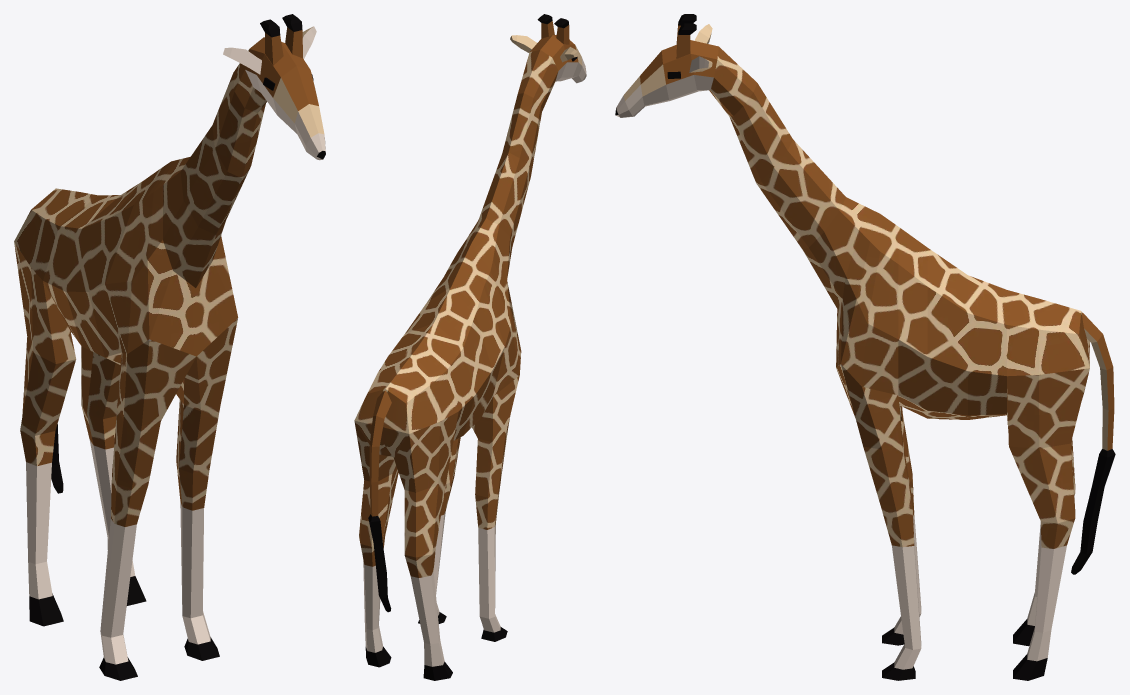
Rendered from giraffe.glb.
3 views of the same model, side by side, from view 1: azimuth 30°, elevation 25°; view 2: azimuth 150°, elevation 25°; view 3: azimuth 270°, elevation 25° (orthographic). The views are drawn at different scales.
Visible parts, largest first — view 1: Geo_Giraffe; view 2: Geo_Giraffe; view 3: Geo_Giraffe.
Boxes of the visible parts, <box> form: Geo_Giraffe: <box>14,14,325,680</box>; Geo_Giraffe: <box>354,14,586,680</box>; Geo_Giraffe: <box>615,14,1115,680</box>.
Bounding box in the file's own units: 0.7309 × 4.5 × 3.21.
1 material, 1 textured.
